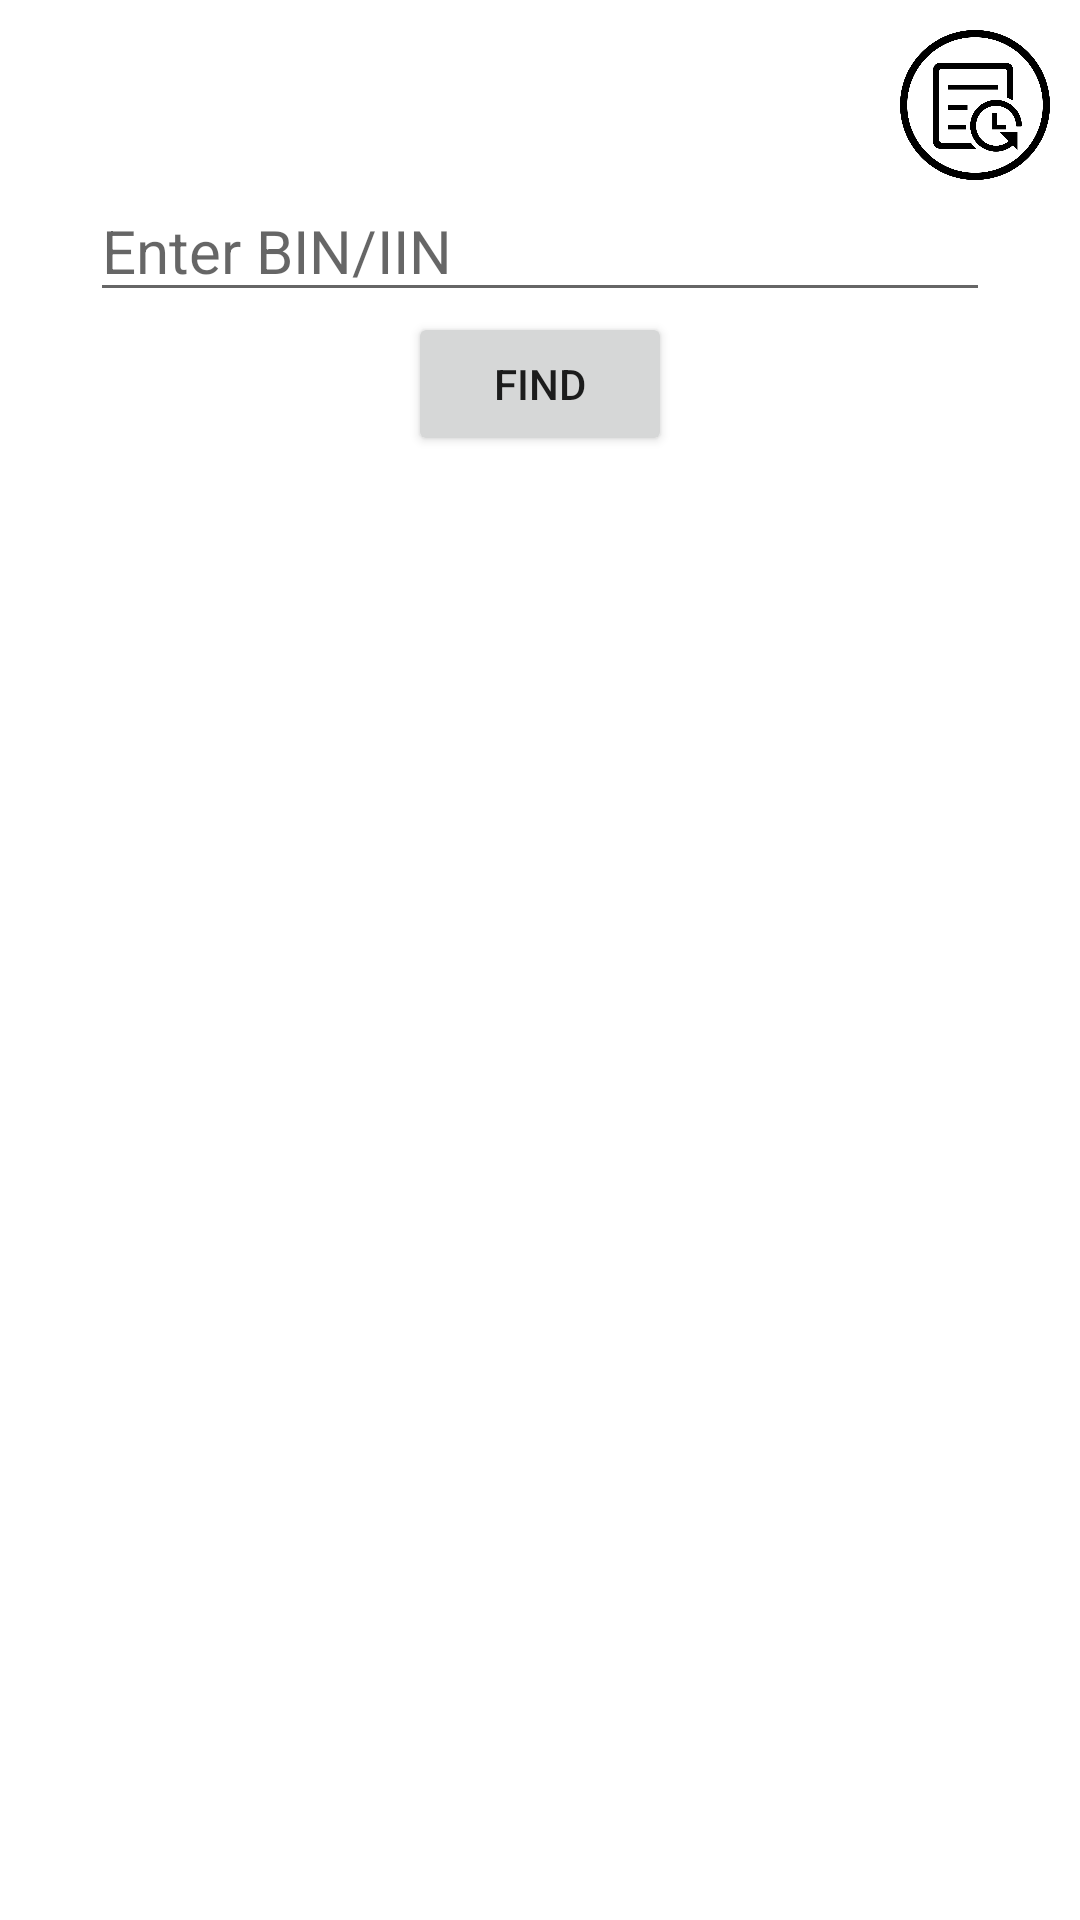

Icons on this 1080px x 1920px Android screen, each with the point to tap as (x=x, y=y):
history: (x=975, y=105)
